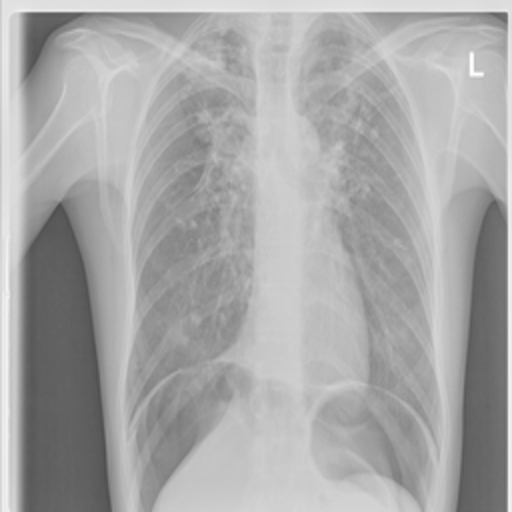TB: (174, 28, 247, 242), (325, 36, 395, 207)
